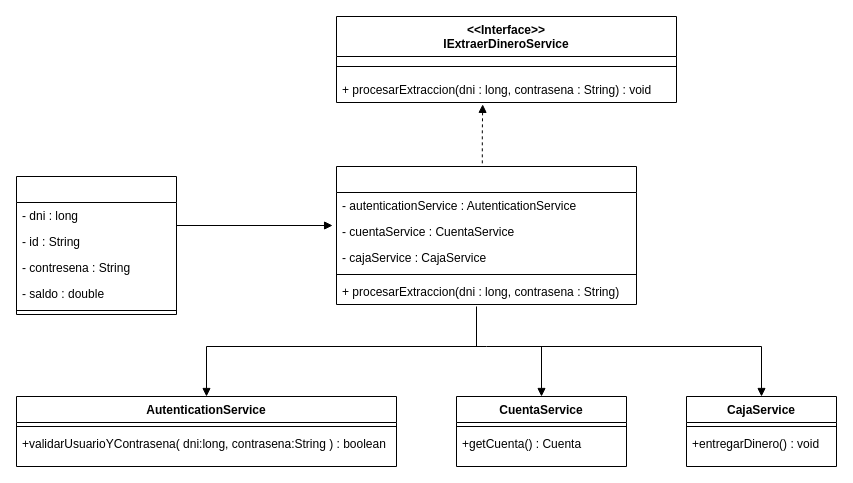
This 853x483 diagram has some shape labels left out. Here are the shapes that lost their labels. From the top down, the box of each, then its label:
(16, 176, 176, 314): Cuenta
(336, 166, 636, 304): ExtraerDineroService
